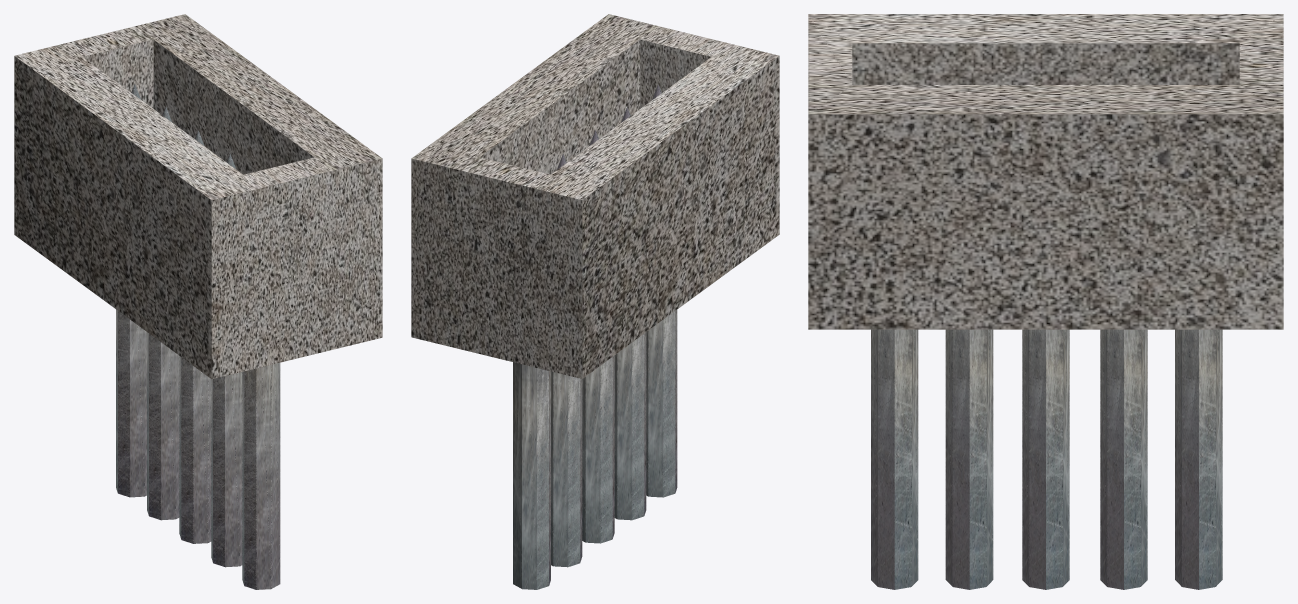
File: rotor.glb
3 renders of one model, left to right at view 1: azimuth 30°, elevation 25°; view 2: azimuth 150°, elevation 25°; view 3: azimuth 270°, elevation 25°, orthographic. The views are drawn at different scales.
Visible parts, largest first — view 1: Cube, Cylinder.003; view 2: Cube, Cylinder.003; view 3: Cube, Cylinder.003.
Boxes of the visible parts, x1=… form: Cube: x1=14, y1=14, x2=382, y2=379; Cylinder.003: x1=116, y1=84, x2=280, y2=589; Cube: x1=411, y1=14, x2=779, y2=378; Cylinder.003: x1=513, y1=84, x2=677, y2=589; Cube: x1=808, y1=14, x2=1283, y2=329; Cylinder.003: x1=871, y1=329, x2=1222, y2=589.
Bounding box in the file's own units: 1 × 2.39 × 2.
Materials: 2 (2 with a texture image).
